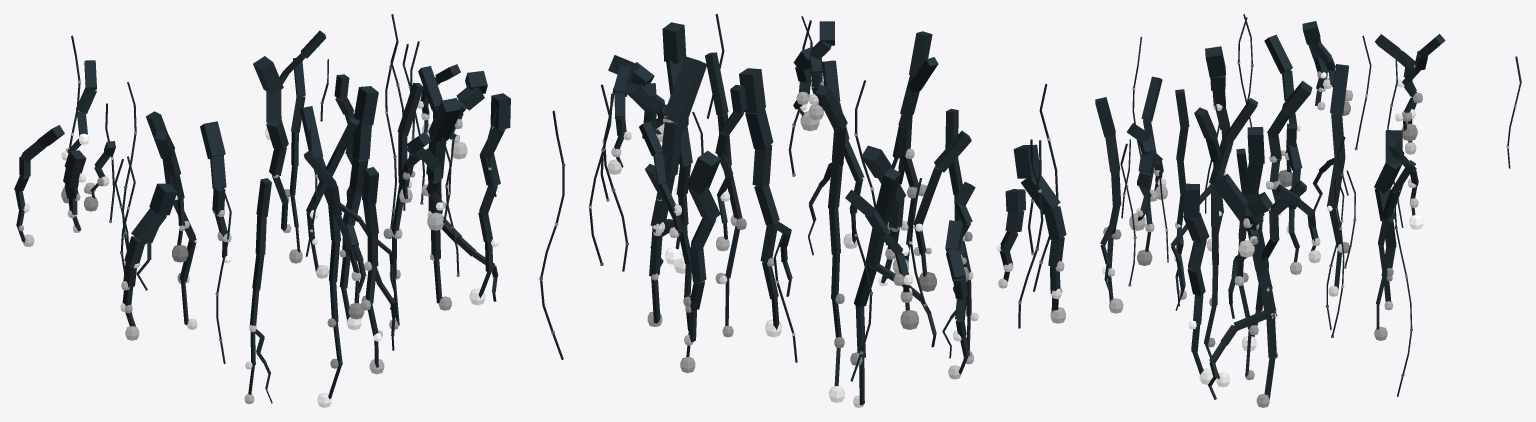
The model's file is root_curtain_b.glb.
3 renders of one model, left to right at view 1: azimuth 30°, elevation 25°; view 2: azimuth 150°, elevation 25°; view 3: azimuth 270°, elevation 25°, orthographic. The views are drawn at different scales.
Parts seen in each view (by area): view 1: root_curtain_b; view 2: root_curtain_b; view 3: root_curtain_b.
Boxes of the visible parts, bbox=[...] form: root_curtain_b: bbox=[14, 14, 510, 407]; root_curtain_b: bbox=[539, 14, 1066, 407]; root_curtain_b: bbox=[1095, 14, 1521, 407].
Size of the model in its own units: 21.2 by 15.35 by 20.34.
2 materials, 1 textured.
